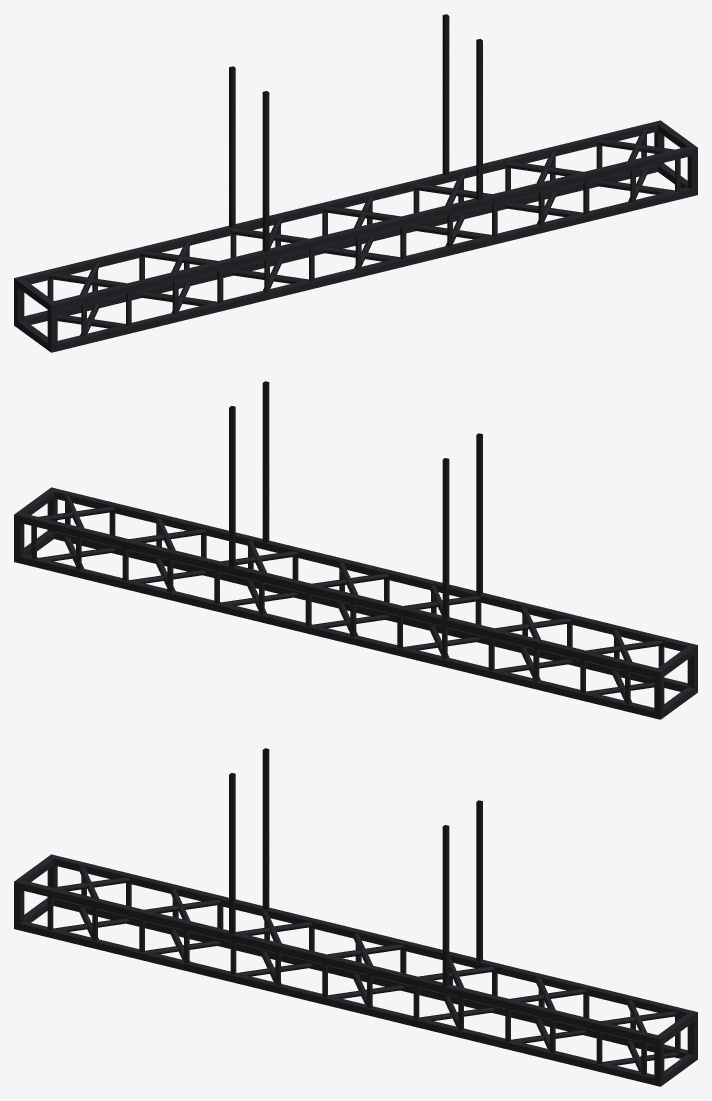
File: SpotlightStructure2.fbx
3 renders of one model, top to bottom at view 1: azimuth 30°, elevation 25°; view 2: azimuth 150°, elevation 25°; view 3: azimuth 330°, elevation 25°, orthographic.
Visible parts, largest first — view 1: StructureCeiling; view 2: StructureCeiling; view 3: StructureCeiling.
Boxes of the visible parts, x1,y1,x2,y2 form: StructureCeiling: (14, 14, 697, 352); StructureCeiling: (14, 381, 697, 719); StructureCeiling: (14, 748, 697, 1086).
Size of the model in its own units: 500 by 153 by 50.
